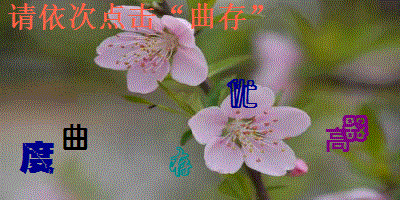text: (19, 140, 56, 177), (225, 76, 259, 110), (60, 122, 89, 153), (341, 113, 370, 143), (168, 145, 192, 178), (326, 126, 352, 152)
